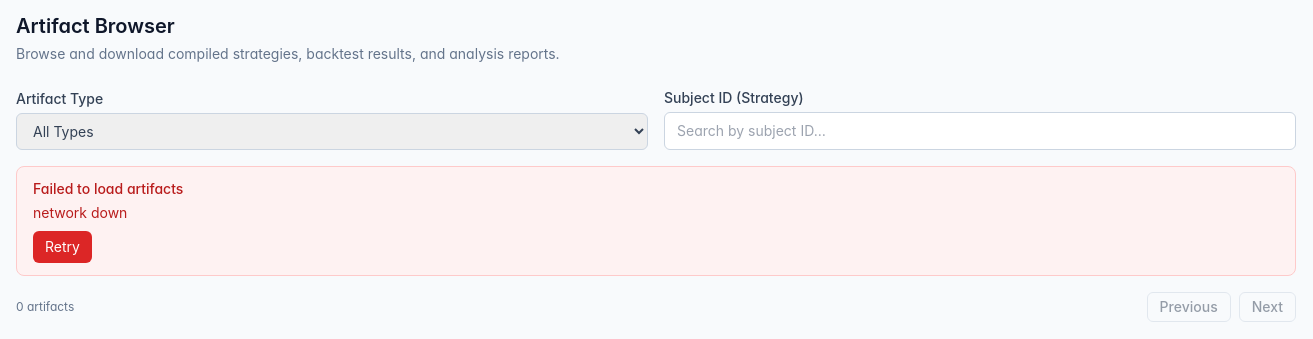
Test: ArtifactBrowser › renders error state with retry on listArtifacts failure
Expected: the message with test id "artifacts-error" shows "network down", [33,204,127,221]
Click the button "Retry": [62, 247] box [33,231,92,263]
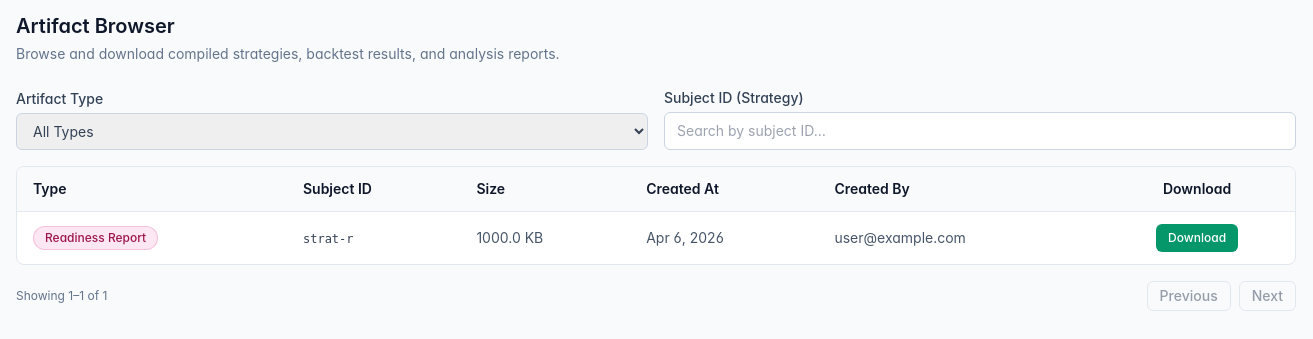
Result: the row with test id "artifacts-row-01HART0000000000000099" is shown at [17,212,1295,264]
